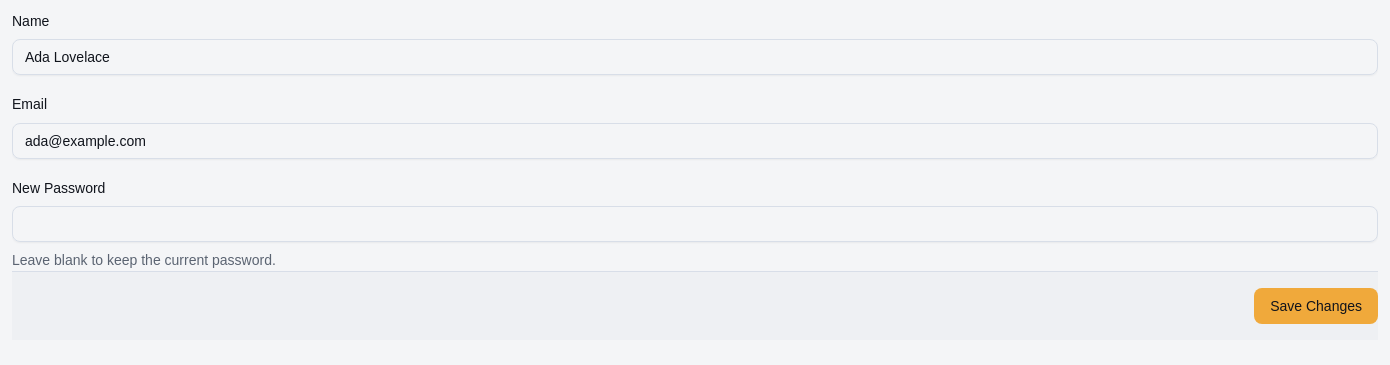
Test: EditUserForm › shows a validation error and blocks submission when a new password is too short
Type "short1" into the password field labelled "New Password".
click(695, 224); type("short1")  # box top-left (12, 206), bottom-right (1378, 242)
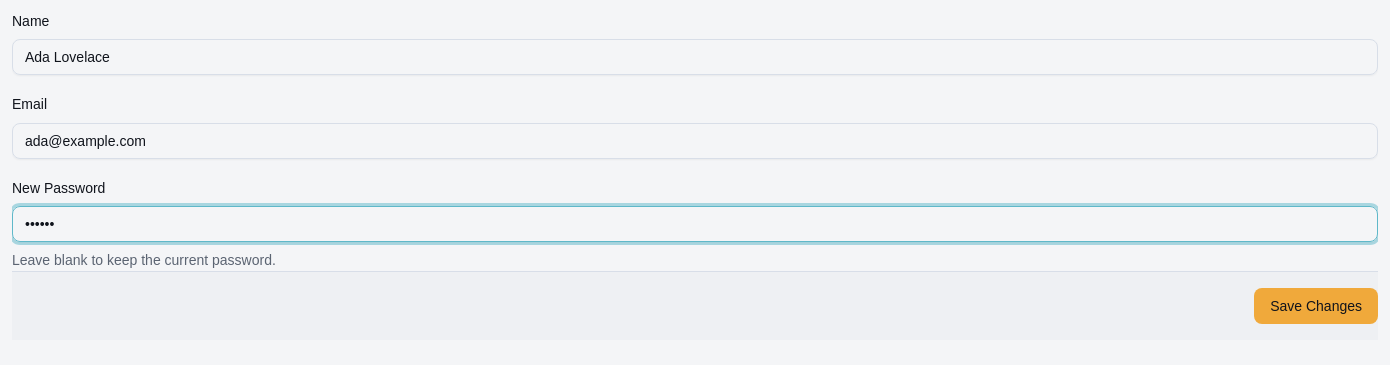
Click the button "Save Changes".
click(1316, 306)  # box top-left (1254, 288), bottom-right (1378, 324)
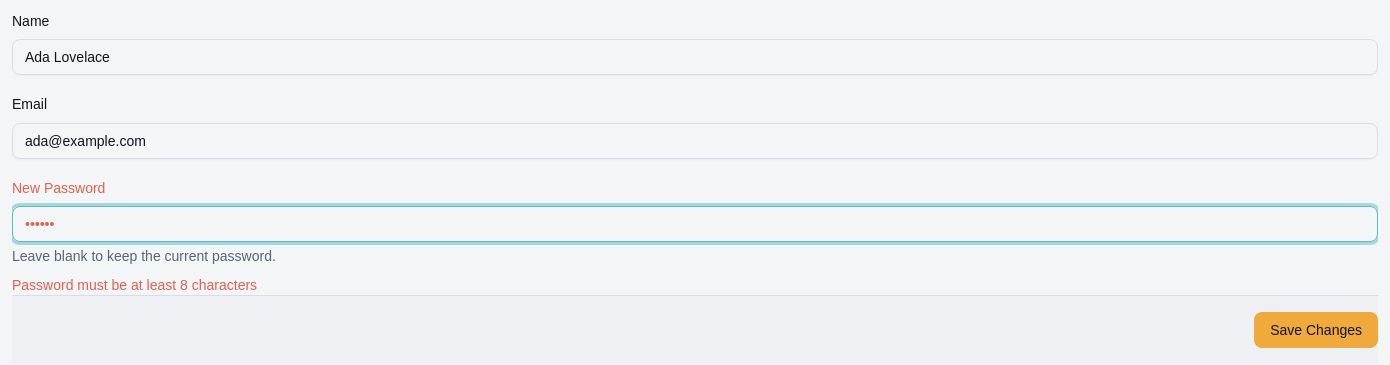
Now the text "Password must be at least 8 characters" is shown, box top-left (12, 277), bottom-right (257, 293)
